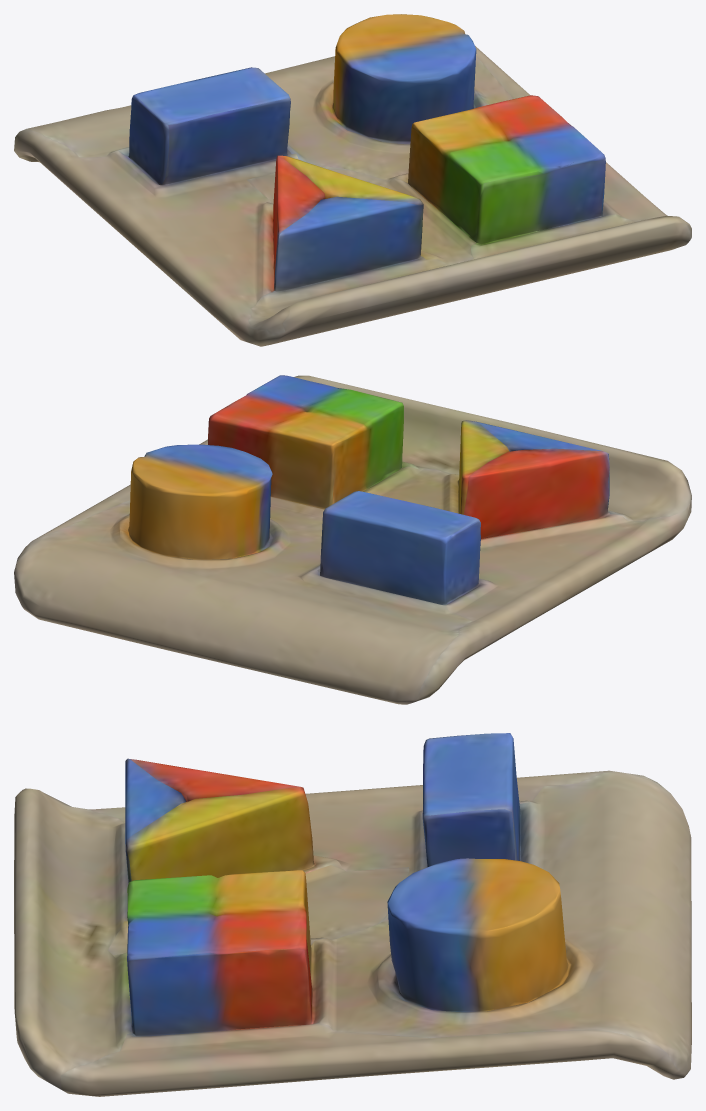
Rendered from gso_fraction_fun_n4h4qte23qr.glb.
3 views of the same model, one above another, from view 1: azimuth 30°, elevation 25°; view 2: azimuth 150°, elevation 25°; view 3: azimuth 270°, elevation 25° (orthographic). The views are drawn at different scales.
Parts seen in each view (by area): view 1: z-up-to-y-up; view 2: z-up-to-y-up; view 3: z-up-to-y-up.
Boxes of the visible parts, x1,y1,x2,y2 form: z-up-to-y-up: (14,14,691,346); z-up-to-y-up: (14,375,691,704); z-up-to-y-up: (14,733,691,1096).
Size of the model in its own units: 0.1752 by 0.0437 by 0.1891.
1 material, 1 textured.
